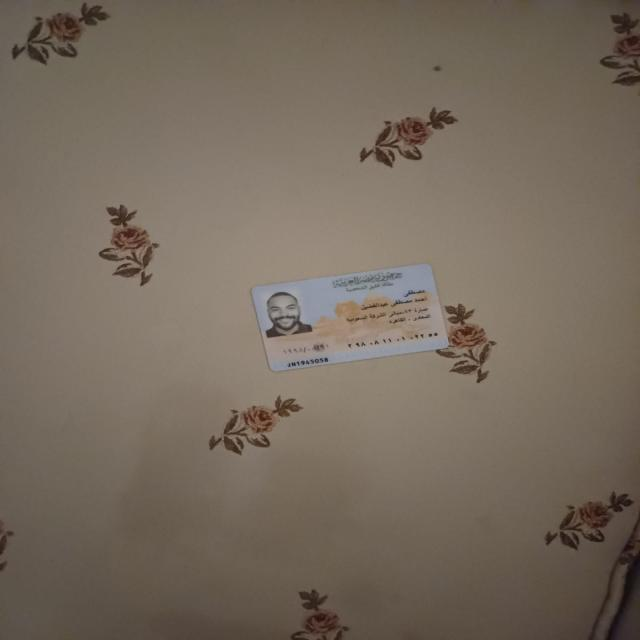ID-cards: (247, 261, 455, 376)
